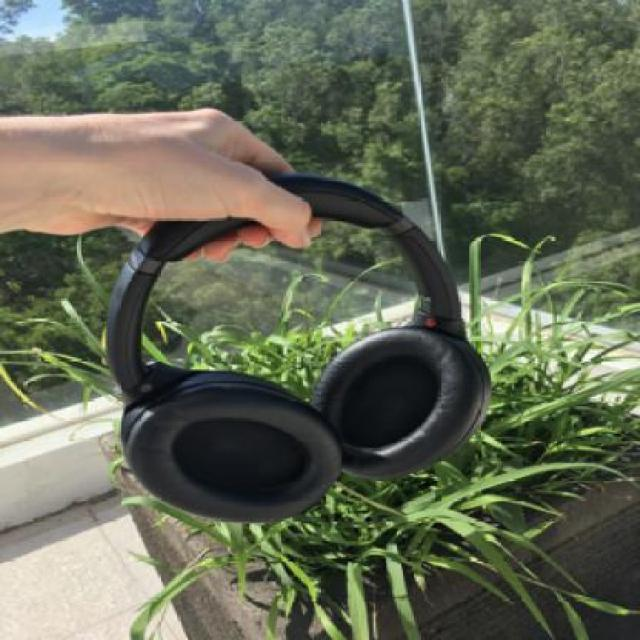earphone: (101, 163, 512, 535)
